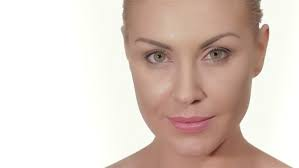white_female: (130, 12, 266, 149)
